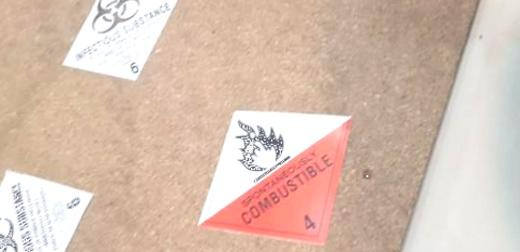infectious-substance: (58, 1, 185, 90), (1, 168, 98, 252)
spontaneously-combustible: (195, 108, 356, 246)
